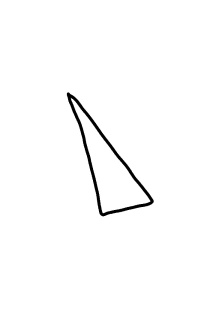Triangle: (64, 89, 155, 218)
